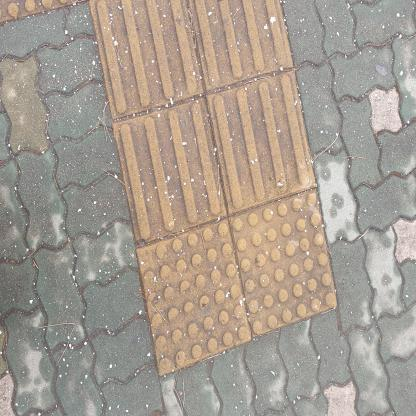podotacti: (0, 0, 339, 383)
